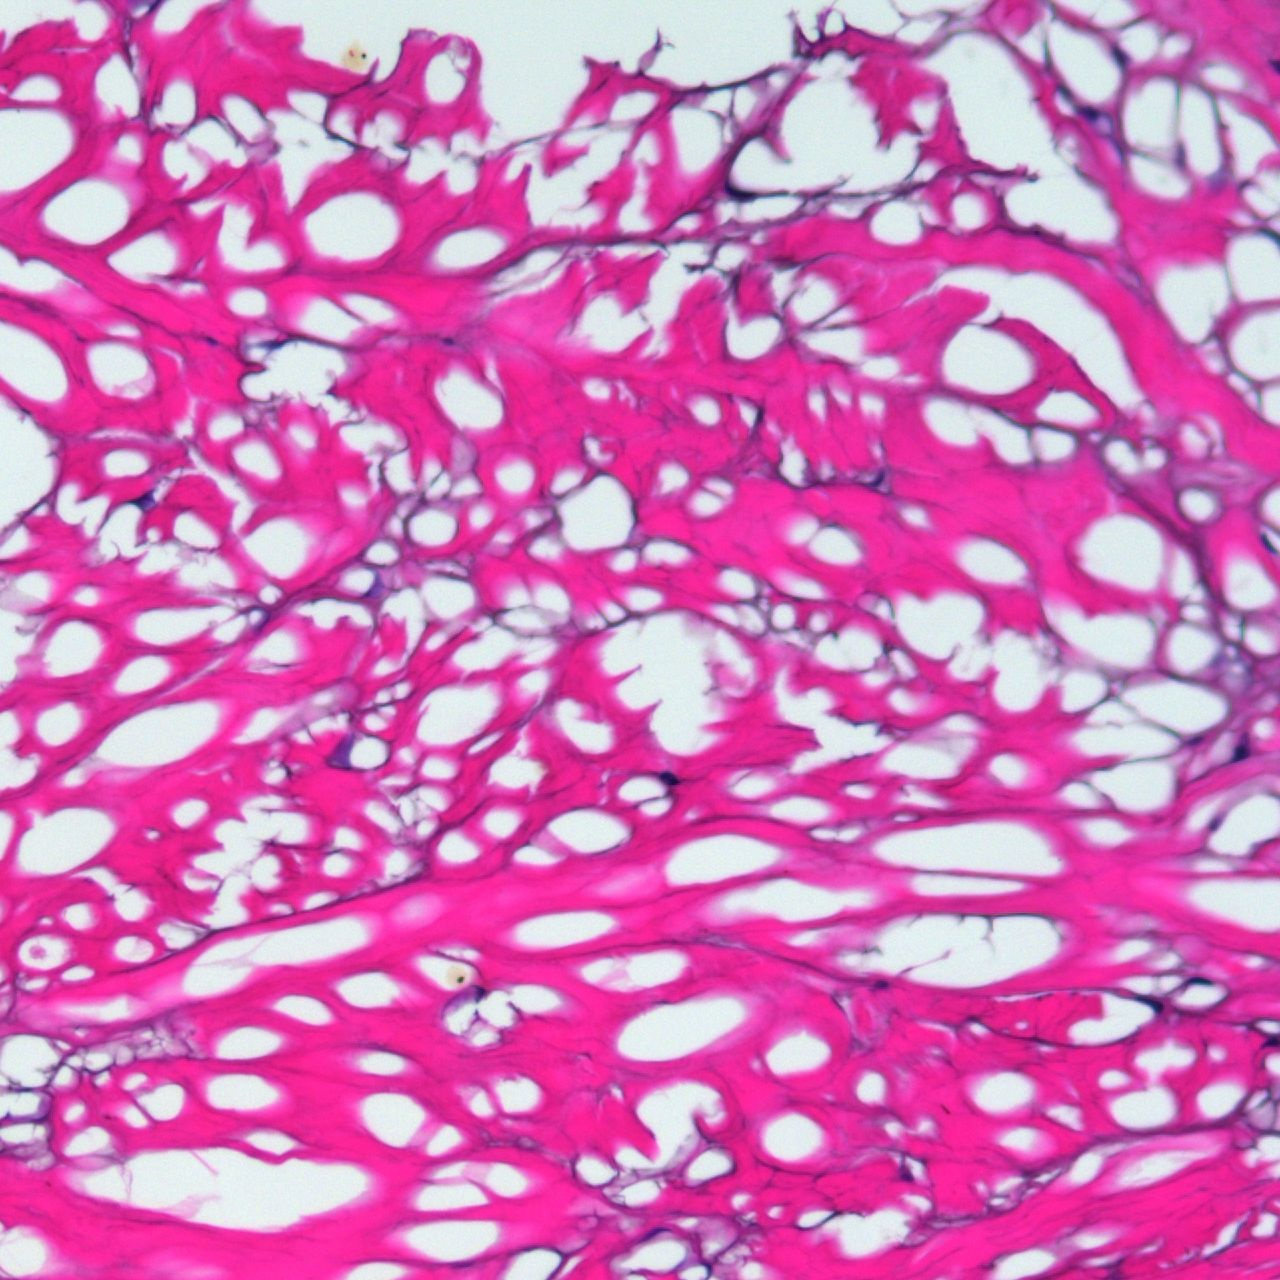dust: (343, 41, 367, 72)
nucleus-HE: (1231, 740, 1253, 767), (1077, 105, 1101, 122), (659, 771, 678, 785), (874, 980, 888, 988), (440, 336, 454, 345)
